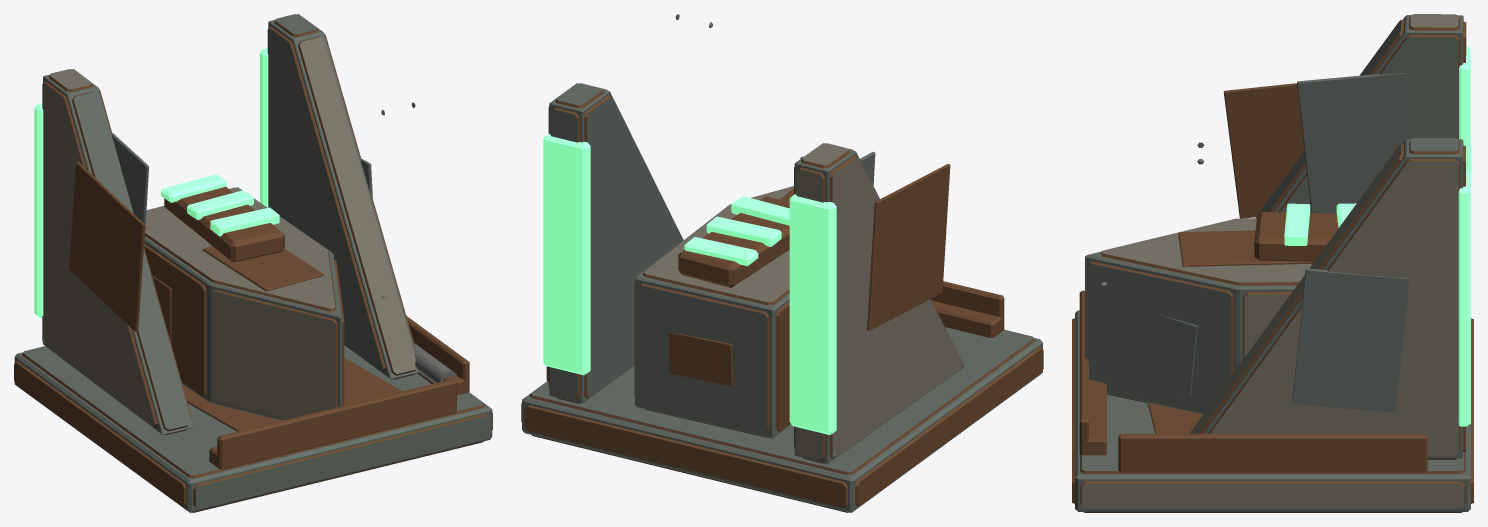
Rendered from R4X_MobilityBooster.fbx.
3 renders of one model, left to right at view 1: azimuth 30°, elevation 25°; view 2: azimuth 150°, elevation 25°; view 3: azimuth 270°, elevation 25°, orthographic. The views are drawn at different scales.
Parts seen in each view (by area): view 1: R4X_MobilityBooster_Body; view 2: R4X_MobilityBooster_Body; view 3: R4X_MobilityBooster_Body.
Boxes of the visible parts, x1,y1,x2,y2 form: R4X_MobilityBooster_Body: (14,14,492,512); R4X_MobilityBooster_Body: (521,14,1043,512); R4X_MobilityBooster_Body: (1072,14,1473,512).
Size of the model in its own units: 0.52 by 0.5 by 0.52.
